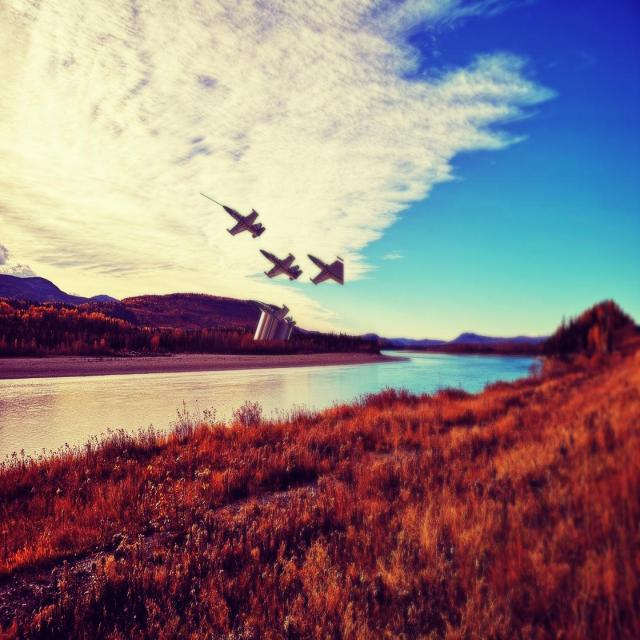airplane: (200, 192, 266, 238), (259, 248, 302, 281), (307, 253, 344, 285)
